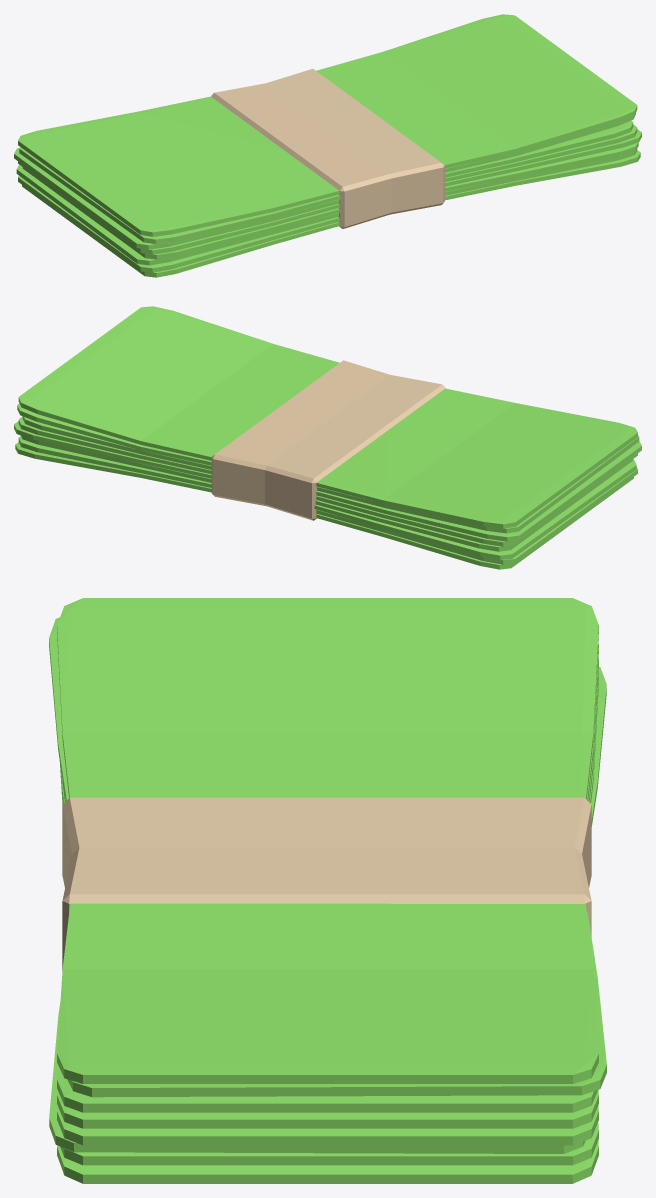
File: Cash1Value.fbx
The picture shows the model from 3 angles, top to bottom: view 1: azimuth 30°, elevation 25°; view 2: azimuth 150°, elevation 25°; view 3: azimuth 270°, elevation 25°; orthographic projection. The views are drawn at different scales.
Visible parts, largest first — view 1: Cash, Cube.001; view 2: Cash, Cube.001; view 3: Cash, Cube.001.
Boxes of the visible parts, bbox=[...] form: Cash: bbox=[14, 14, 641, 277]; Cube.001: bbox=[211, 68, 444, 228]; Cash: bbox=[14, 306, 641, 569]; Cube.001: bbox=[211, 360, 445, 520]; Cash: bbox=[49, 598, 606, 1183]; Cube.001: bbox=[62, 797, 591, 970].
Size of the model in its own units: 16.08 by 1.61 by 7.68.
